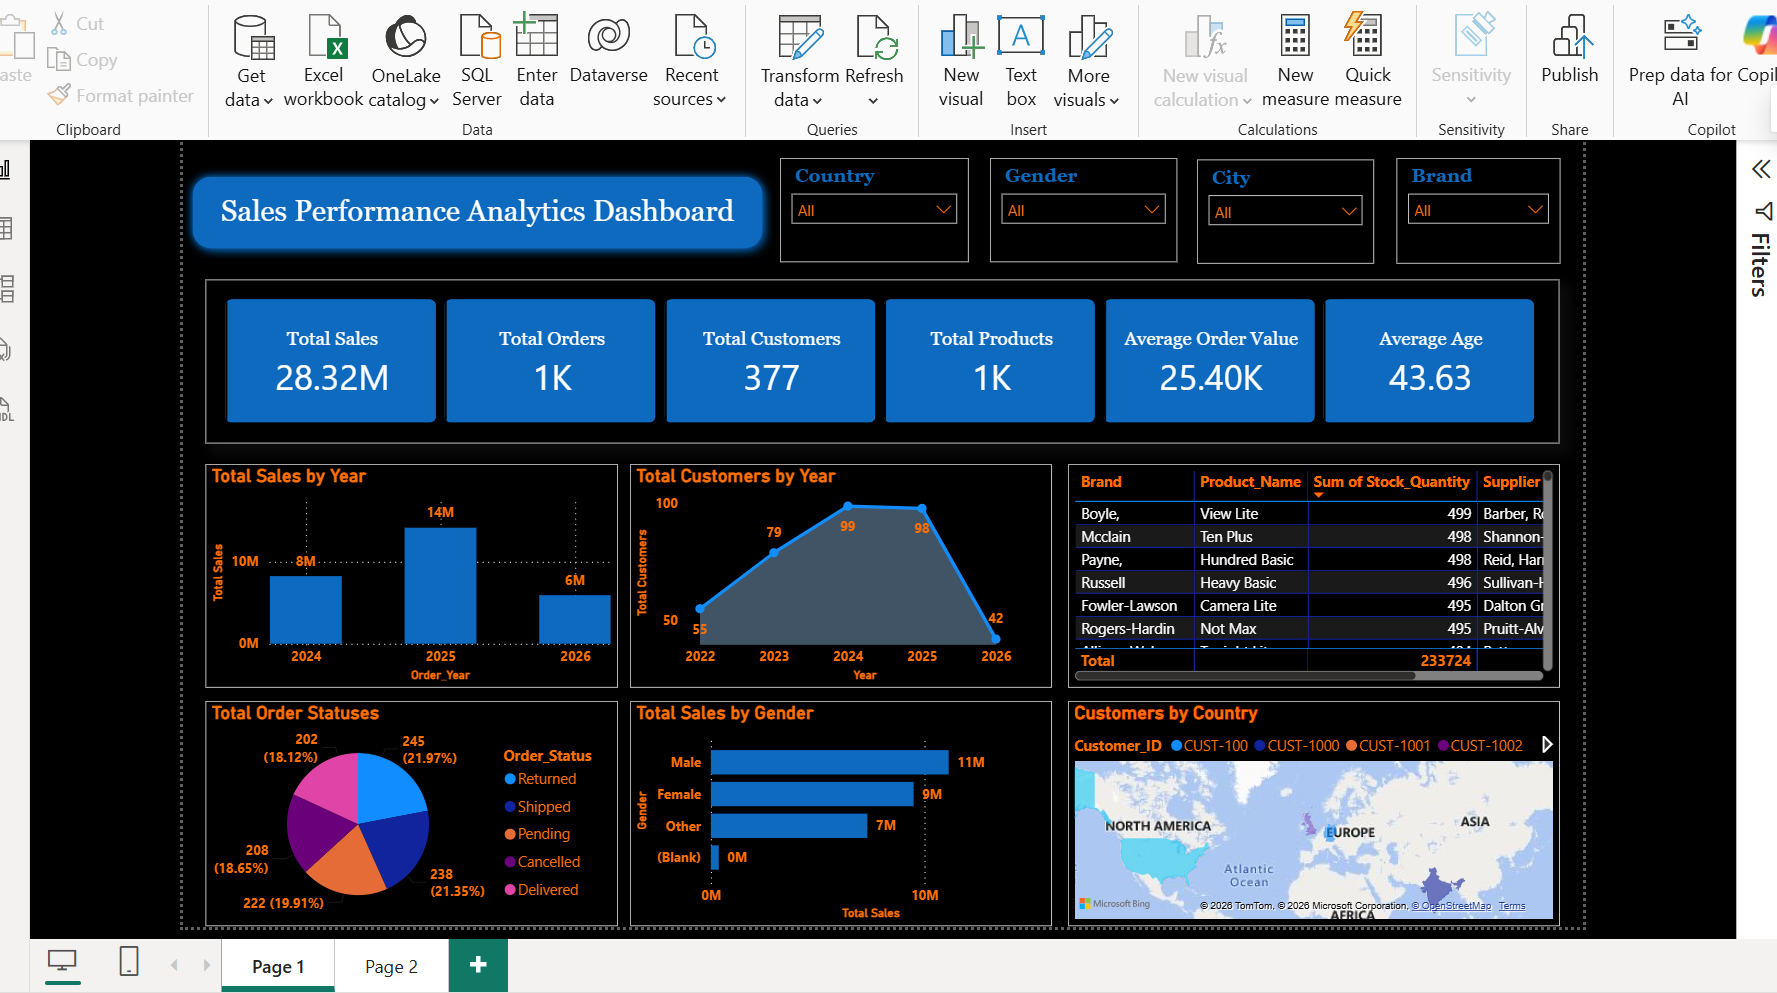

The dashboard page shown, as its layout file describes it:
{"tool":"powerbi","page":{"name":"Page 1","canvas":[1280,720],"ordinal":0},"visuals":[{"type":"shape","box":[0,24.2,539.1,83.3],"z":0},{"type":"textbox","box":[28.8,43.9,481.5,42.4],"z":1000},{"type":"cardVisual","fields":{"Data":["sales_orders_cleaned.Total Sales","sales_orders_cleaned.Total Orders","sales_orders_cleaned.Total Customers","products_cleaned.Total Products","sales_orders_cleaned.Average Order Value","Cleaned Customer Data.Average Age"]},"box":[21.2,127.2,1238.6,149.9],"z":2000},{"type":"slicer","fields":{"Values":["Cleaned Customer Data.Country"]},"box":[546.6,16.7,172.6,95.4],"z":3000},{"type":"slicer","fields":{"Values":["products_cleaned.Brand"]},"box":[1109.9,16.7,149.9,96.9],"z":4000},{"type":"slicer","fields":{"Values":["Cleaned Customer Data.City"]},"box":[928.2,18.2,162,95.4],"z":5000},{"type":"slicer","fields":{"Values":["Cleaned Customer Data.Gender"]},"box":[738.9,16.7,171.1,95.4],"z":6000},{"type":"clusteredColumnChart","title":"Total Sales by Year","fields":{"Y":["sales_orders_cleaned.Total Sales"],"Category":["sales_orders_cleaned.Order_Year"]},"box":[21.2,296.8,377,204.4],"z":7000},{"type":"pieChart","title":"Total Order Statuses","fields":{"Y":["sales_orders_cleaned.Total Orders"],"Category":["sales_orders_cleaned.Order_Status"]},"box":[21.2,513.3,377,205.9],"z":8000},{"type":"lineChart","fields":{"Y":["sales_orders_cleaned.Total Customers"],"Category":["Cleaned Customer Data.Join_Date.Variation.Date Hierarchy.Year"]},"box":[408.8,296.8,386.1,204.4],"z":9000},{"type":"clusteredBarChart","fields":{"Category":["Cleaned Customer Data.Gender"],"Y":["sales_orders_cleaned.Total Sales"]},"box":[408.8,513.3,386.1,205.9],"z":10000},{"type":"filledMap","title":"Customers by Country","fields":{"Category":["Cleaned Customer Data.Country"],"Series":["Cleaned Customer Data.Customer_ID"]},"box":[810,513,450,206],"z":11000},{"type":"tableEx","fields":{"Values":["products_cleaned.Brand","products_cleaned.Product_Name","Sum(products_cleaned.Stock_Quantity)","products_cleaned.Supplier"]},"box":[810.1,296.8,449.7,204.4],"z":12000}]}

Visuals, with their boxes on the page's 1280x720 design canvas (x1, y1, x2, y2). These are canvas units, not pixel positions in the 1777x993 screenshot, which may show the page scaled, cropped or inside an application window:
shape: 0 24 539 108
textbox: 29 44 510 86
cardVisual - sales_orders_cleaned.Total Sales x sales_orders_cleaned.Total Orders: 21 127 1260 277
slicer - Cleaned Customer Data.Country: 547 17 719 112
slicer - products_cleaned.Brand: 1110 17 1260 114
slicer - Cleaned Customer Data.City: 928 18 1090 114
slicer - Cleaned Customer Data.Gender: 739 17 910 112
"Total Sales by Year" clusteredColumnChart: 21 297 398 501
"Total Order Statuses" pieChart: 21 513 398 719
lineChart - sales_orders_cleaned.Total Customers x Cleaned Customer Data.Join_Date.Variation.Date Hierarchy.Year: 409 297 795 501
clusteredBarChart - Cleaned Customer Data.Gender x sales_orders_cleaned.Total Sales: 409 513 795 719
"Customers by Country" filledMap: 810 513 1260 719
tableEx - products_cleaned.Brand x products_cleaned.Product_Name: 810 297 1260 501
